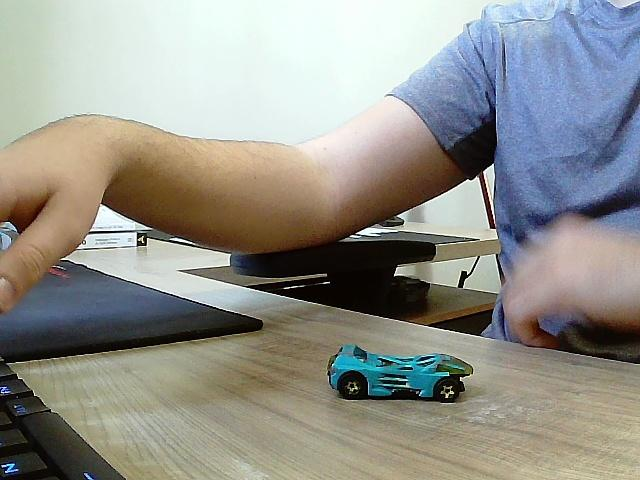Carro: (329, 345, 473, 403)
